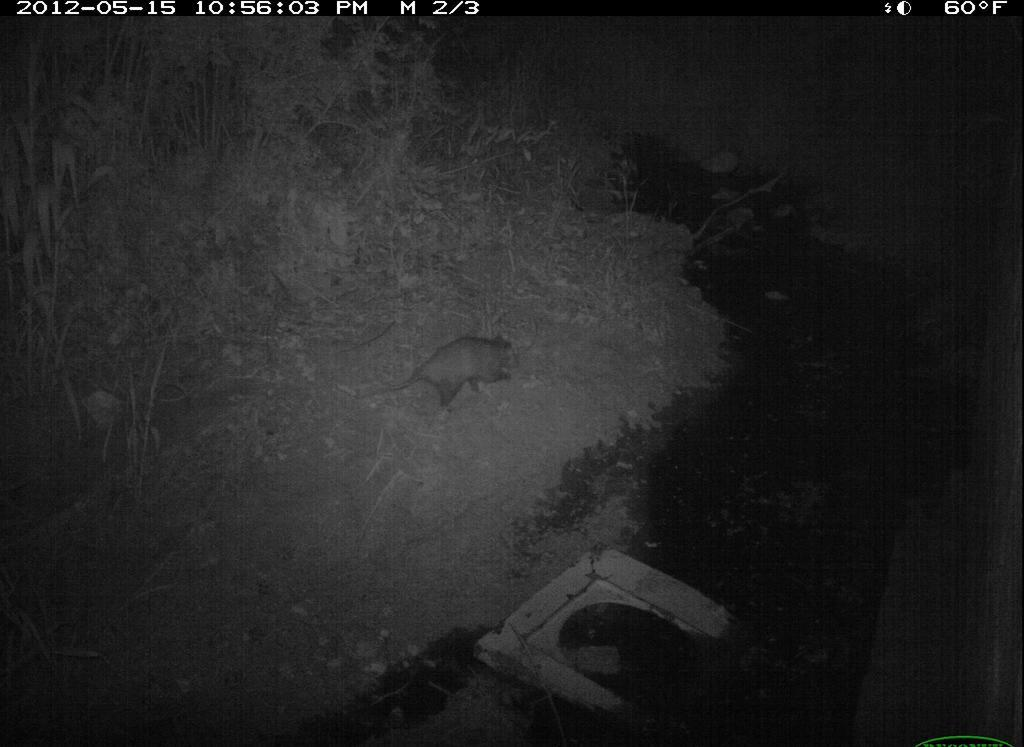opossum: (350, 332, 532, 419)
